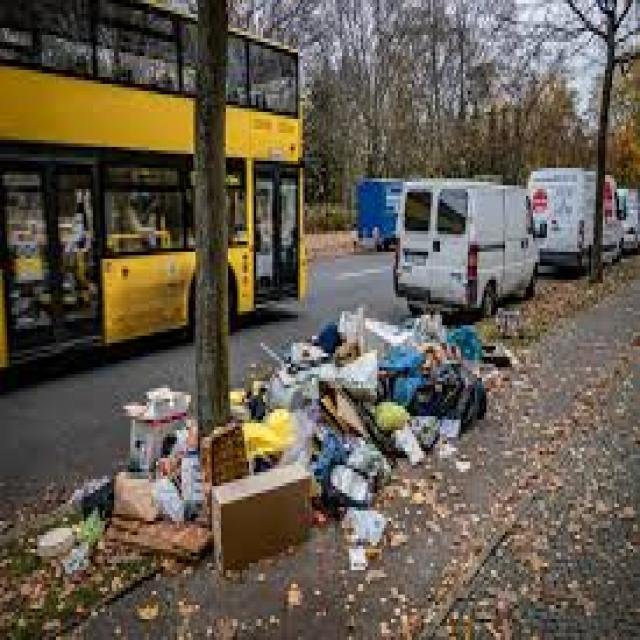garbage: (95, 304, 504, 558)
